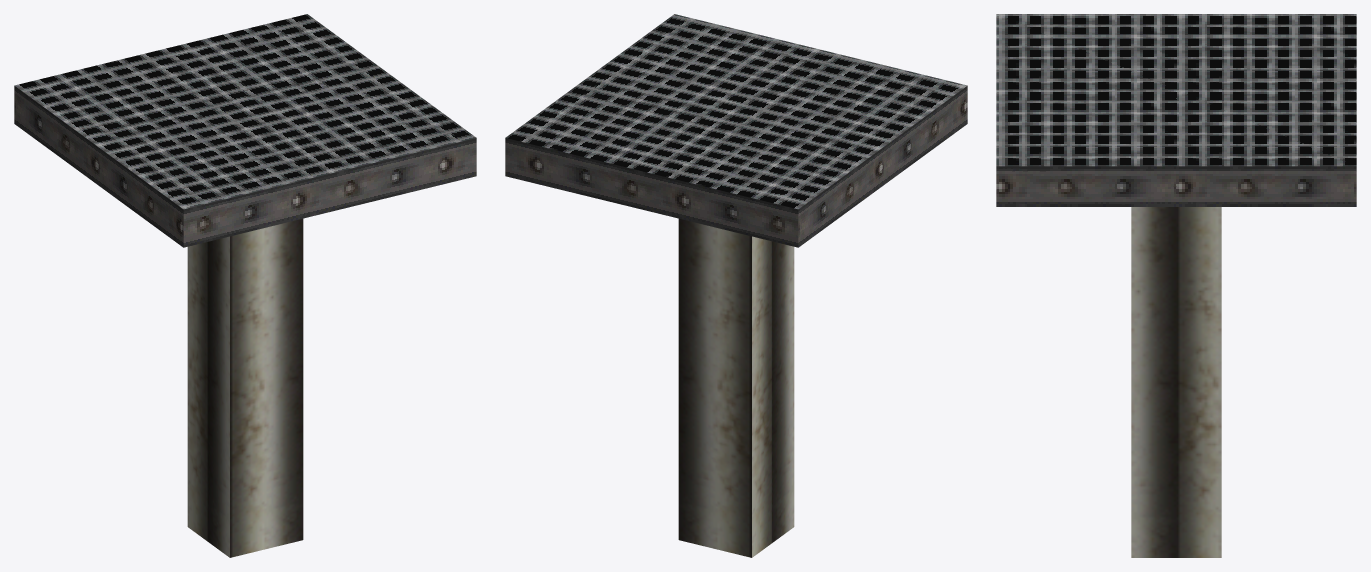
File: jon.obj
3 renders of one model, left to right at view 1: azimuth 30°, elevation 25°; view 2: azimuth 150°, elevation 25°; view 3: azimuth 270°, elevation 25°, orthographic. The views are drawn at different scales.
Visible parts, largest first — view 1: lift4; view 2: lift4; view 3: lift4.
Boxes of the visible parts, x1=… form: lift4: x1=14, y1=14, x2=476, y2=557; lift4: x1=505, y1=14, x2=967, y2=557; lift4: x1=996, y1=14, x2=1356, y2=557.
Size of the model in its own units: 3.12 by 4.29 by 3.12.
3 materials, 3 textured.
